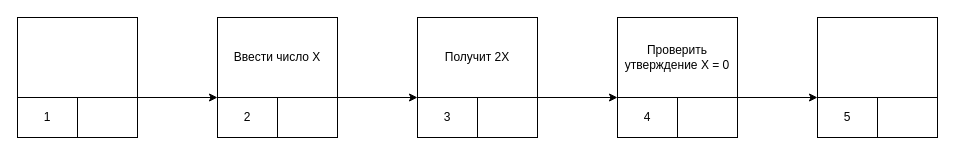
Some shapes in this 955 by 155 pixel diagram are drawn without their labels. The centre of each missing label's shape, as x and y in pixels:
Вывести результат работы программы: (x=877, y=57)
Запустить программу: (x=77, y=57)
